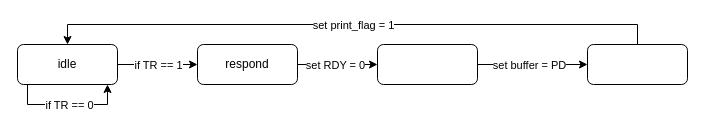
This 705x130 diagram has some shape labels left out. Each missing label, with the box of its shape:
print: (586, 44, 688, 84)
receive: (376, 44, 478, 84)
